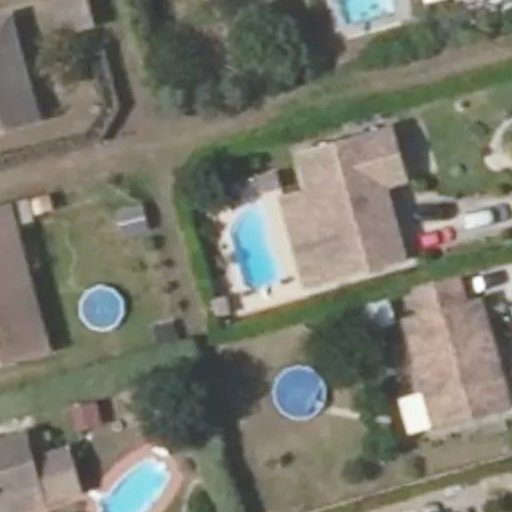pool: (225, 206, 284, 279)
